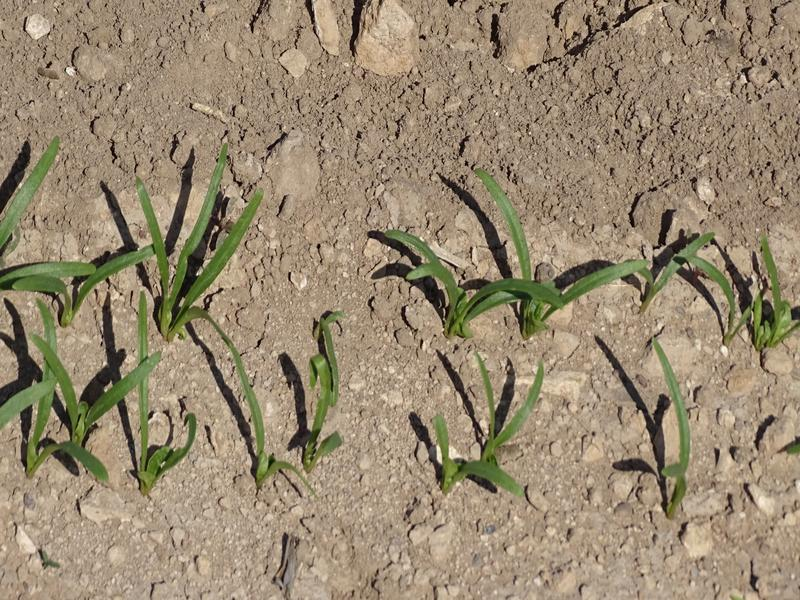Espinaca: (387, 169, 796, 341), (1, 135, 273, 321), (13, 336, 207, 489), (413, 354, 555, 494), (642, 352, 705, 516), (221, 334, 286, 481), (292, 314, 343, 470)
